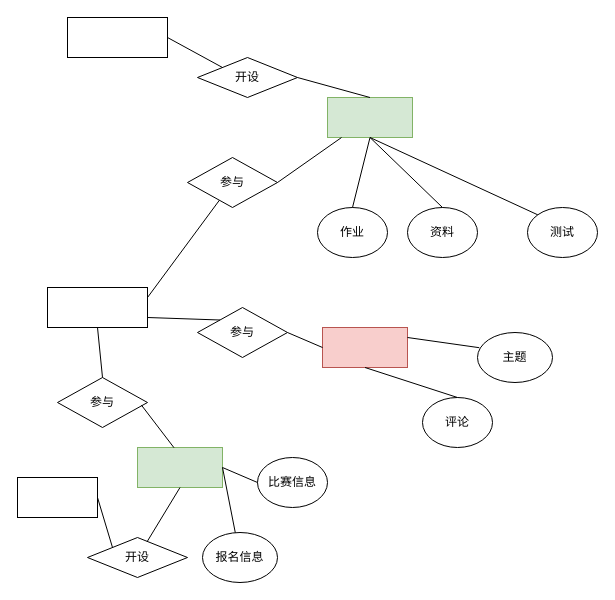
This 615x600 diagram has some shape labels left out. The centre of each missing label's shape, as x and y in pixels:
学生: the point at 97,307
教育机构: the point at 57,497
比赛: the point at 179,467
老师: the point at 117,37
论坛: the point at 365,347
课程: the point at 369,117
